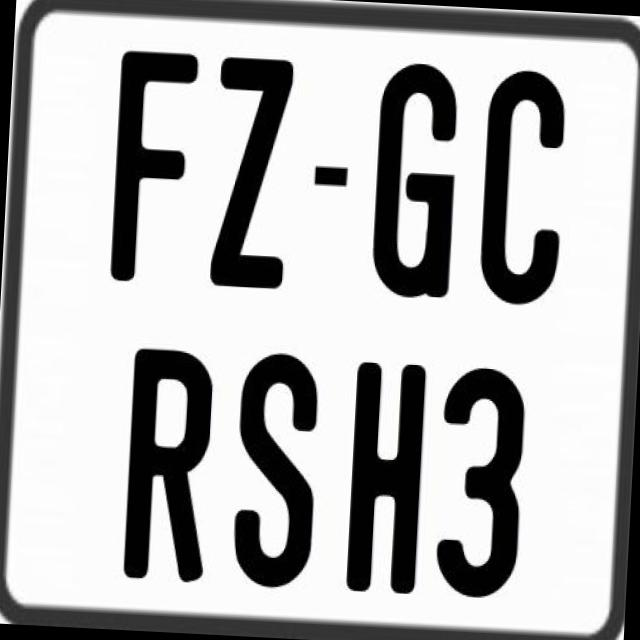3: (432, 362, 532, 594)
C: (476, 68, 574, 307)
F: (109, 45, 202, 287)
G: (368, 62, 464, 303)
H: (342, 359, 426, 594)
R: (122, 346, 218, 580)
S: (231, 352, 322, 596)
Z: (210, 57, 296, 290)
